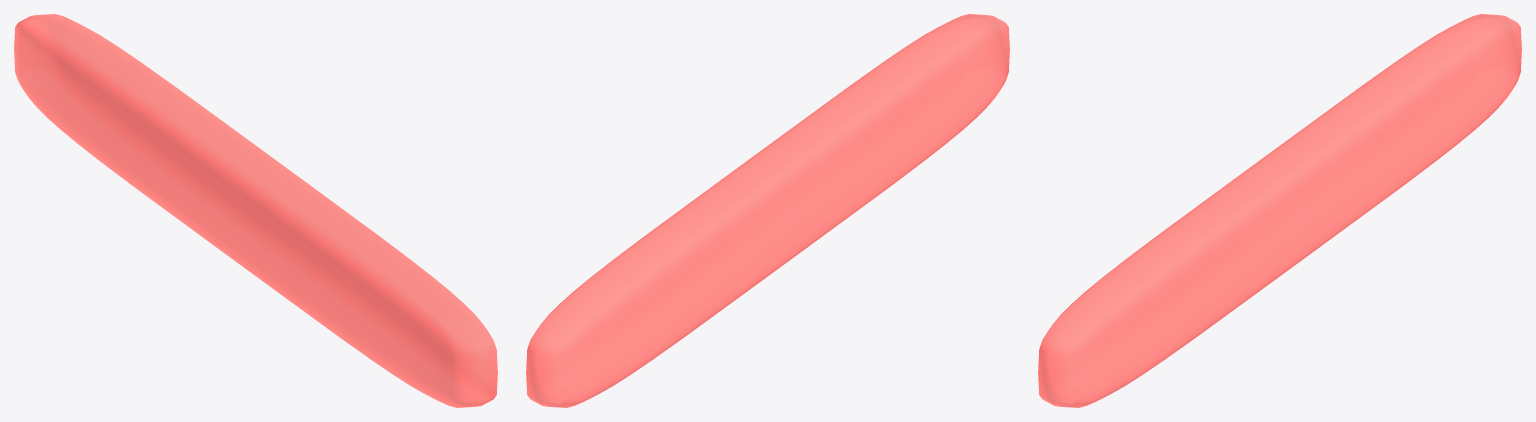
File: ronin-light-tail.v1.glb
3 renders of one model, left to right at view 1: azimuth 30°, elevation 25°; view 2: azimuth 150°, elevation 25°; view 3: azimuth 330°, elevation 25°, orthographic.
Visible parts, largest first — view 1: ronin-light-tail; view 2: ronin-light-tail; view 3: ronin-light-tail.
Part boxes in pixels (x1=…): ronin-light-tail: x1=14, y1=14, x2=497, y2=407; ronin-light-tail: x1=526, y1=14, x2=1009, y2=407; ronin-light-tail: x1=1038, y1=14, x2=1521, y2=407.
Size of the model in its own units: 0.016 by 0.028 by 0.24.
